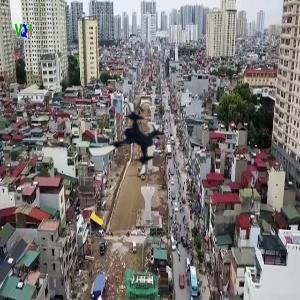drone: (86, 99, 169, 182)
